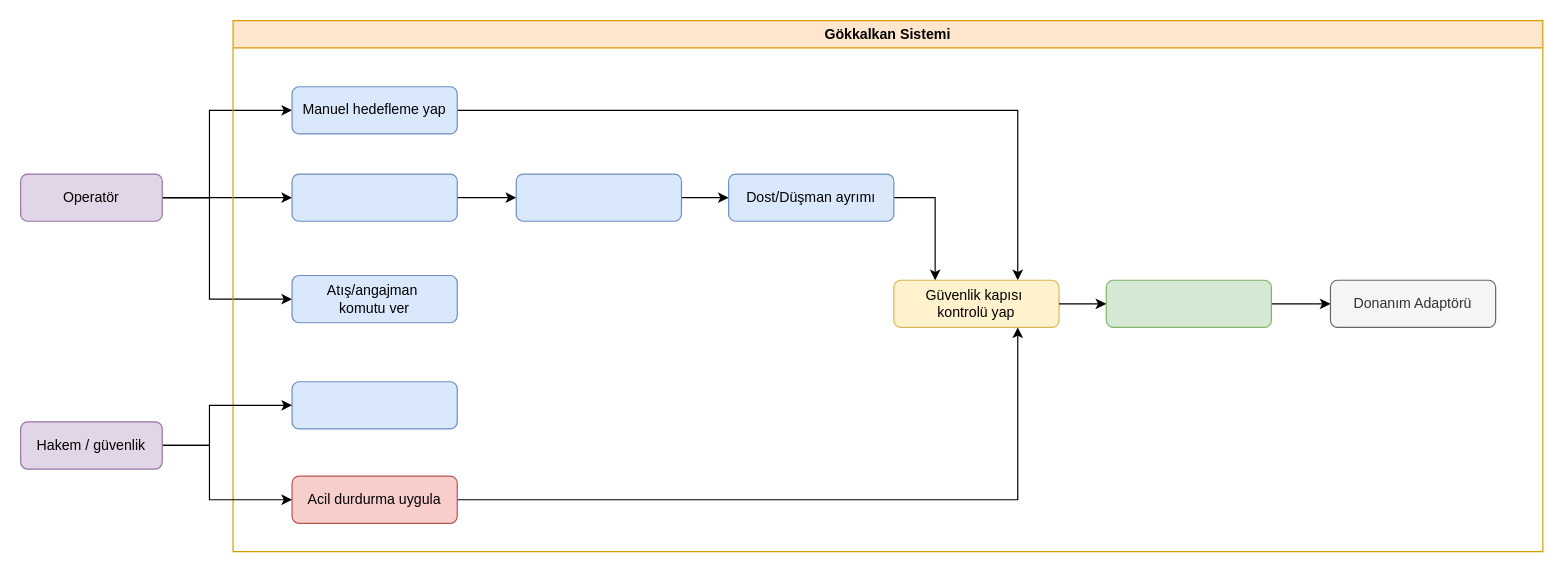
This 1563x572 diagram has some shape labels left out. The shapes that lost their labels are listed below. From the top down, each one's box as (x1, y1, x2, y2) in pixels, then its label:
(291, 173, 457, 221): Otonom modu başlat
(515, 173, 681, 221): Otonom sürü takibi
(1105, 279, 1271, 327): Görev/video kanıt kaydı oluştur
(291, 381, 457, 429): Hedef sırasını belirle
